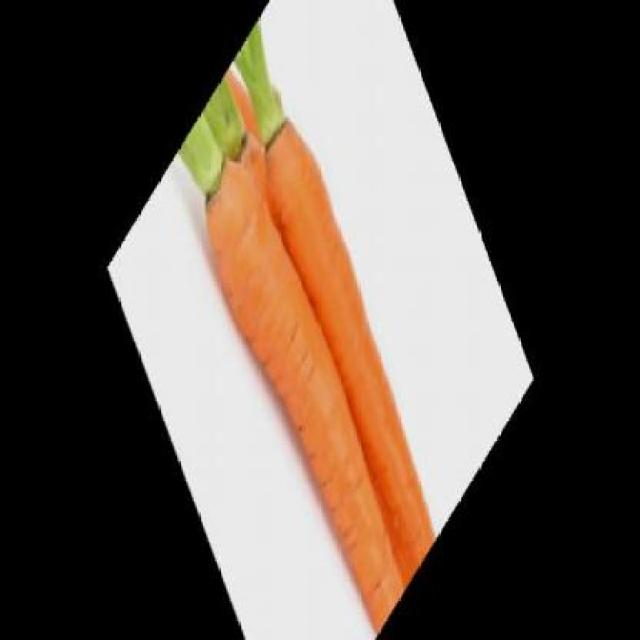carrot: (191, 116, 415, 638), (253, 92, 452, 578), (234, 118, 420, 594), (223, 46, 271, 157)
